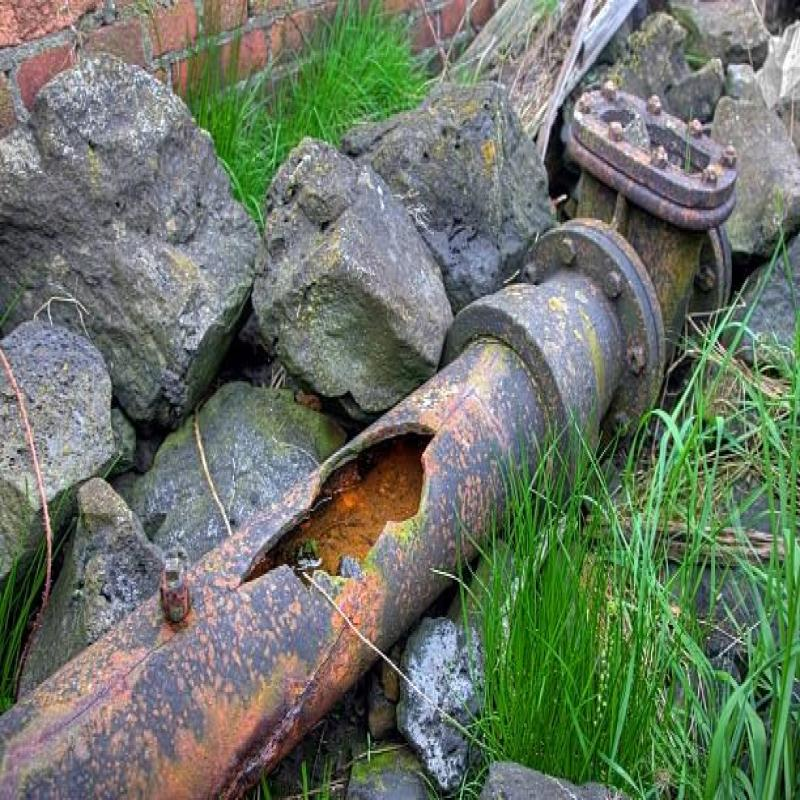Fracture: (225, 400, 437, 660)
